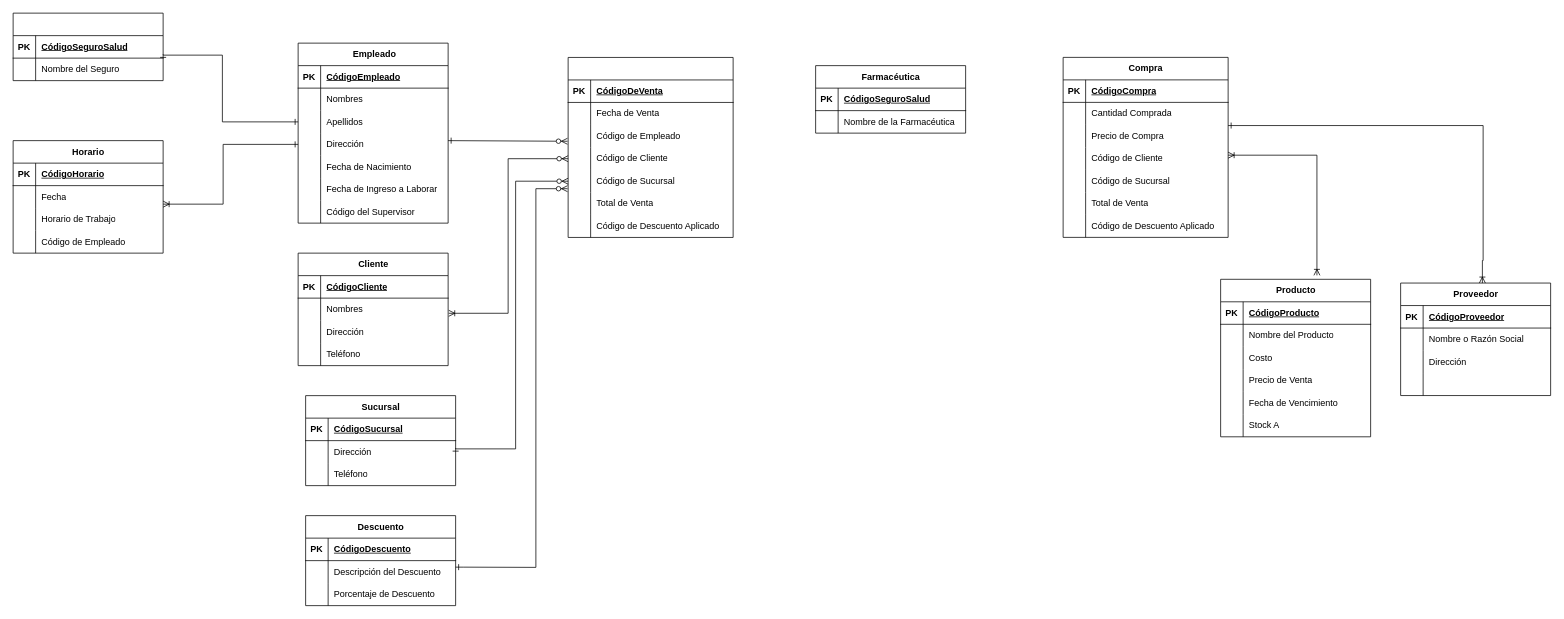
This 1564x619 diagram has some shape labels left out. Here are the shapes that lost their labels. From the top down, the box of each, then its label:
(12, 12, 163, 81): Seguro de Salud
(567, 57, 733, 237): Número de Venta
